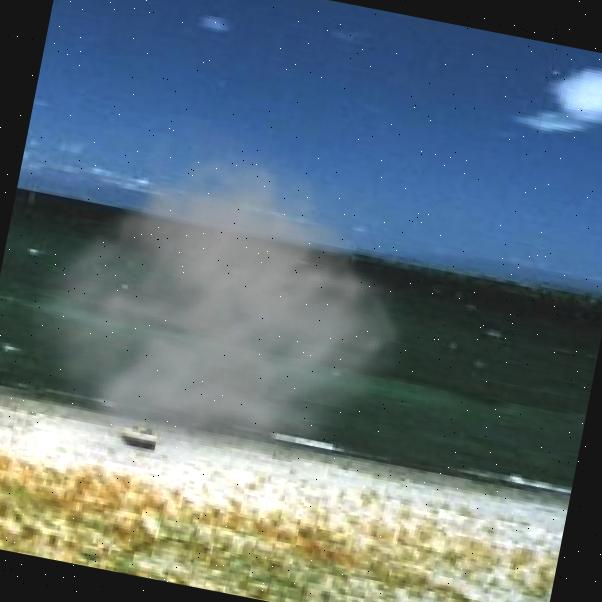smoke: (0, 83, 452, 516)
